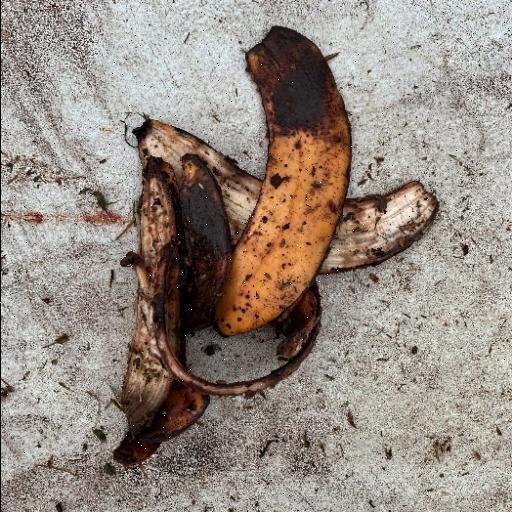Waste: (112, 24, 440, 468), (211, 24, 353, 338)
